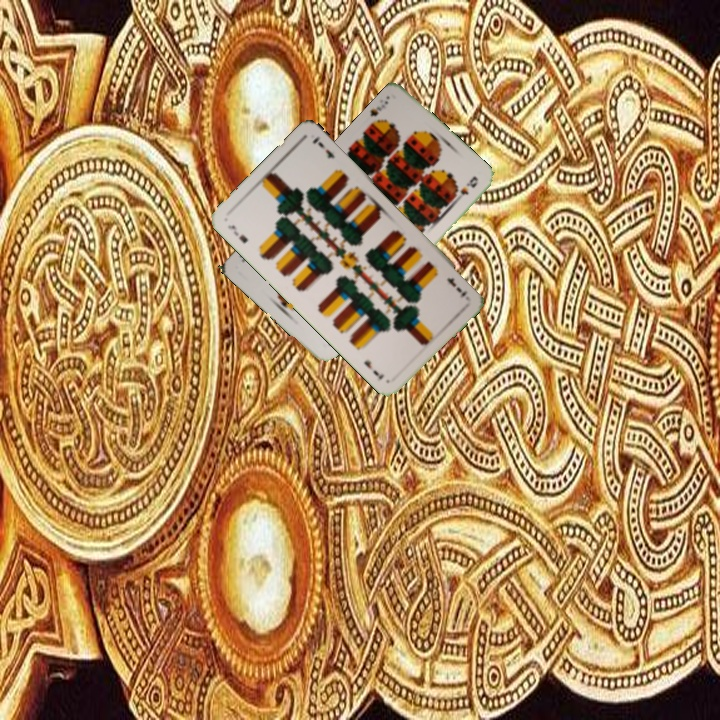E7: (443, 273, 470, 299), (224, 221, 250, 246)
S9: (365, 96, 391, 129)
